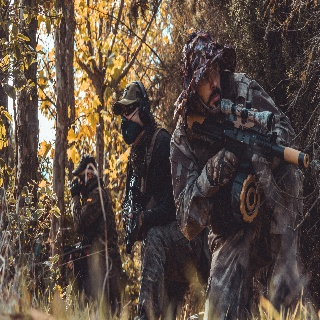rifle: (183, 97, 311, 225), (121, 149, 144, 254)
